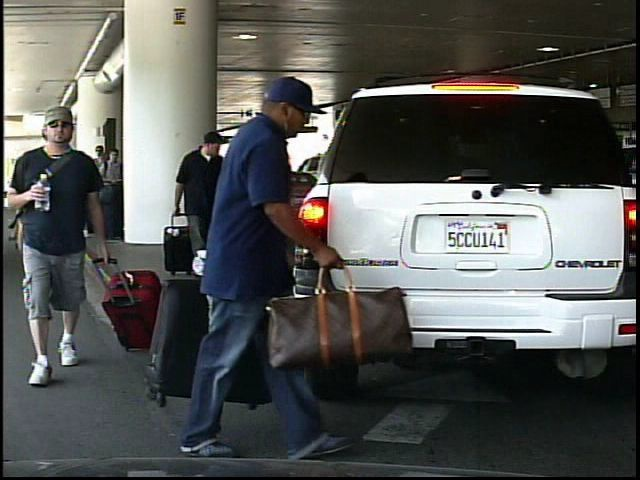person: (178, 75, 341, 461), (19, 100, 114, 384), (166, 129, 234, 276)
